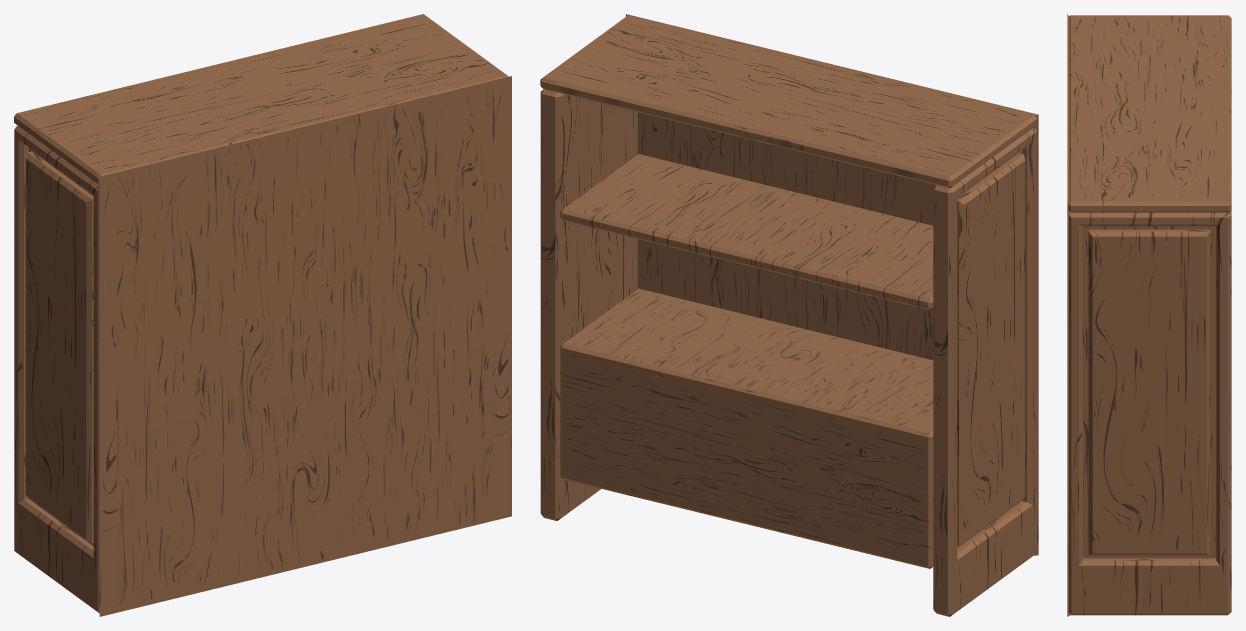
The model's file is shelf.fbx.
The picture shows the model from 3 angles, left to right: view 1: azimuth 30°, elevation 25°; view 2: azimuth 150°, elevation 25°; view 3: azimuth 270°, elevation 25°; orthographic projection. The views are drawn at different scales.
Visible parts, largest first — view 1: bed_Frame_ShelvesBack, bed_Frame_ShelveSides, bed_Frame_Shelves; view 2: bed_Frame_Shelves, bed_Frame_ShelveSides, bed_Frame_ShelvesBack; view 3: bed_Frame_ShelveSides, bed_Frame_Shelves, bed_Frame_ShelvesBack.
Part boxes in pixels (x1,y1,x2,y2): bed_Frame_ShelvesBack: [99, 76, 511, 616]; bed_Frame_ShelveSides: [14, 88, 508, 613]; bed_Frame_Shelves: [14, 14, 508, 185]; bed_Frame_Shelves: [540, 16, 1036, 568]; bed_Frame_ShelveSides: [540, 89, 1036, 616]; bed_Frame_ShelvesBack: [626, 14, 1038, 555]; bed_Frame_ShelveSides: [1069, 210, 1231, 615]; bed_Frame_Shelves: [1068, 15, 1231, 212]; bed_Frame_ShelvesBack: [1067, 14, 1070, 616].
Size of the model in its own units: 515 by 526 by 189.
Materials: 1 (1 with a texture image).
